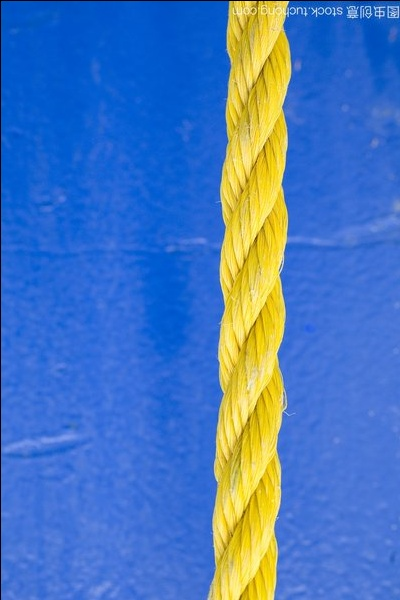9/可回收垃圾/绳子: (205, 1, 291, 600)
